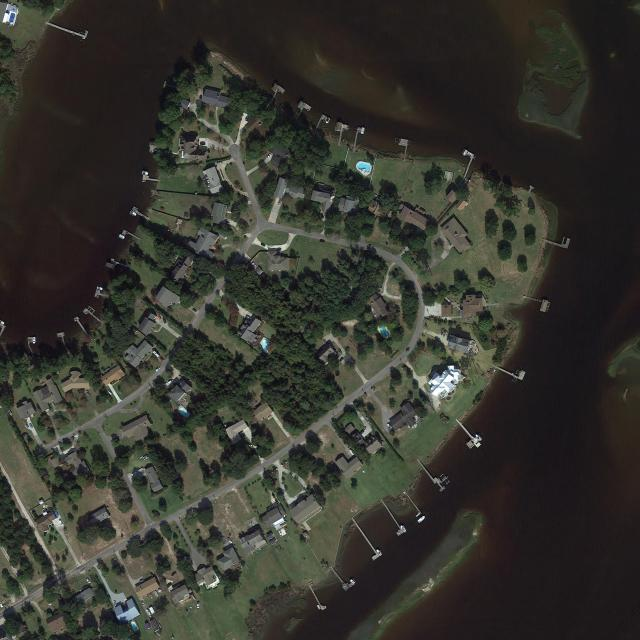ship: (417, 515, 426, 523), (145, 608, 152, 618), (399, 525, 407, 533), (475, 434, 483, 442), (386, 423, 394, 431), (348, 448, 355, 456), (142, 454, 150, 461), (376, 549, 383, 556), (462, 149, 469, 156), (251, 262, 258, 269), (129, 210, 137, 216), (7, 409, 13, 417), (153, 590, 159, 597), (325, 117, 331, 124), (350, 579, 356, 585), (142, 171, 149, 176), (119, 234, 126, 239), (96, 286, 103, 291), (249, 520, 254, 527), (316, 604, 321, 610), (32, 337, 36, 344), (361, 127, 365, 134)
small-vehicle: (165, 581, 172, 589), (227, 537, 233, 544), (107, 390, 113, 396), (171, 571, 177, 577), (338, 357, 344, 363), (168, 379, 174, 385), (131, 471, 138, 476), (271, 492, 276, 499), (59, 520, 64, 527), (320, 212, 325, 219), (245, 315, 252, 320), (405, 347, 410, 353), (24, 423, 29, 429), (86, 578, 91, 584), (359, 430, 365, 435), (162, 382, 168, 387), (245, 115, 250, 121), (266, 153, 271, 159), (277, 200, 282, 206), (260, 242, 266, 247), (157, 314, 162, 320), (162, 318, 167, 324), (159, 356, 165, 361), (86, 390, 90, 397), (275, 499, 280, 504), (192, 308, 197, 313), (155, 367, 160, 372), (29, 423, 33, 429), (139, 579, 145, 583), (319, 239, 325, 243), (197, 602, 200, 609), (246, 444, 253, 447), (22, 434, 28, 437), (114, 601, 117, 607), (199, 95, 202, 101), (200, 142, 205, 145), (277, 248, 281, 251)
